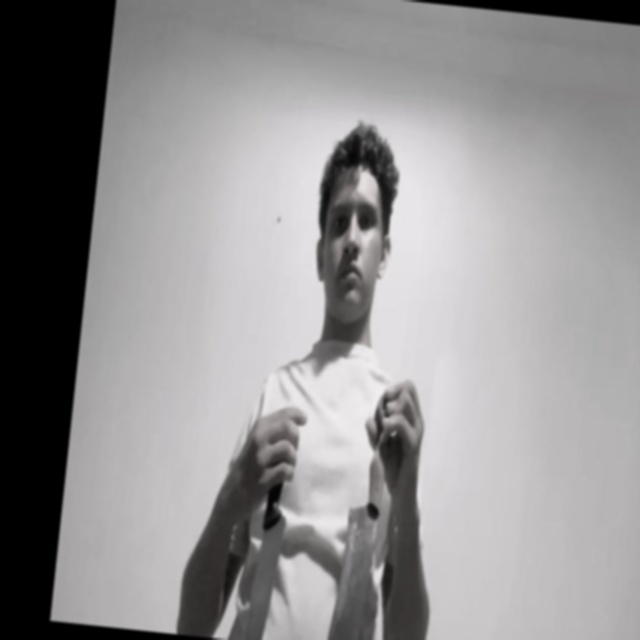Sharp-Object: (326, 505, 379, 640), (246, 513, 287, 640)
